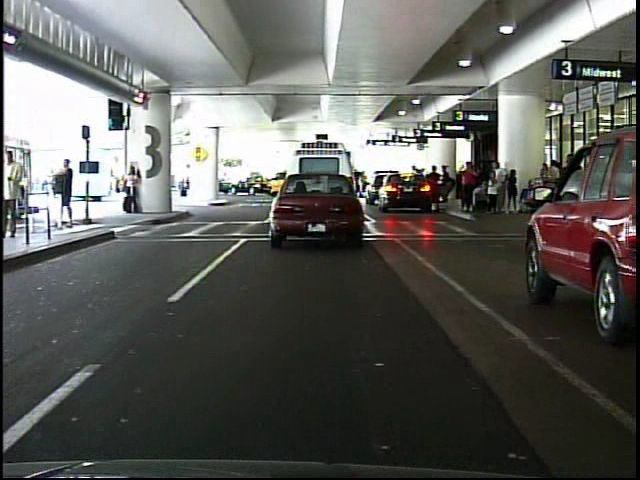person: (4, 149, 34, 244), (57, 153, 81, 232), (122, 161, 143, 215), (172, 160, 197, 202), (460, 162, 478, 216)
